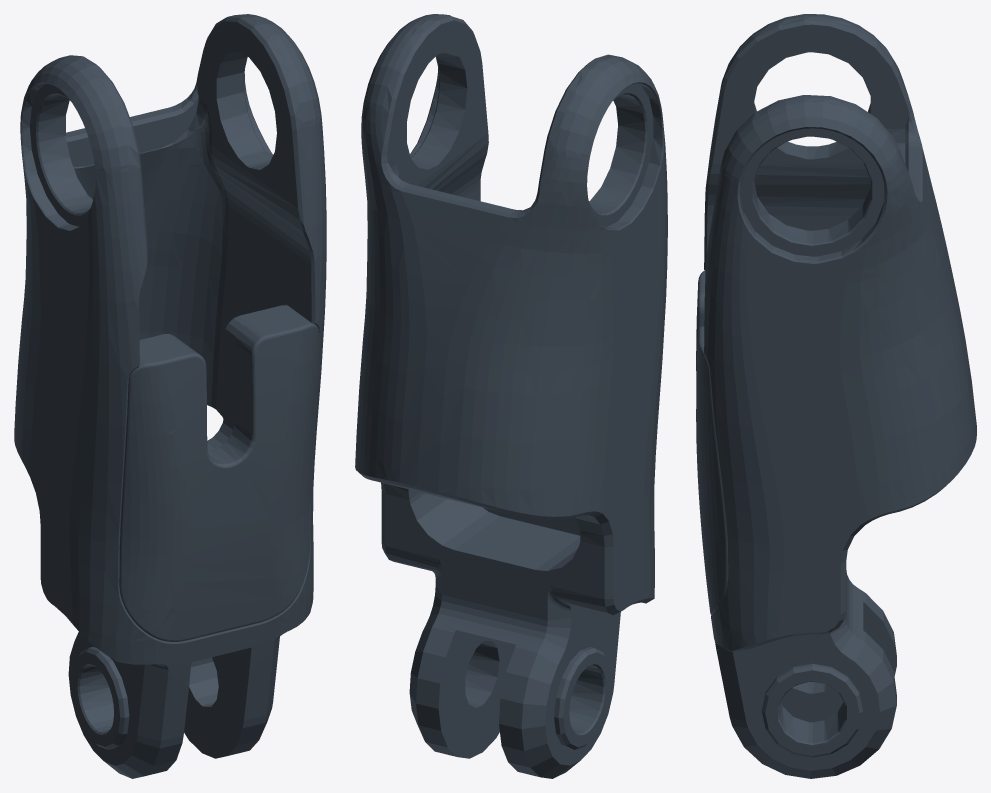
The model's file is lf_mcp_pitch_link.glb.
3 renders of one model, left to right at view 1: azimuth 30°, elevation 25°; view 2: azimuth 150°, elevation 25°; view 3: azimuth 270°, elevation 25°, orthographic. The views are drawn at different scales.
Parts seen in each view (by area): view 1: lf_mcp_pitch; view 2: lf_mcp_pitch; view 3: lf_mcp_pitch.
Part boxes in pixels (left/top/right/bottom): lf_mcp_pitch: left=14, top=14, right=326, bottom=778; lf_mcp_pitch: left=355, top=14, right=667, bottom=778; lf_mcp_pitch: left=696, top=14, right=976, bottom=778.
Bounding box in the file's own units: 0.0154 × 0.0455 × 0.0166.
